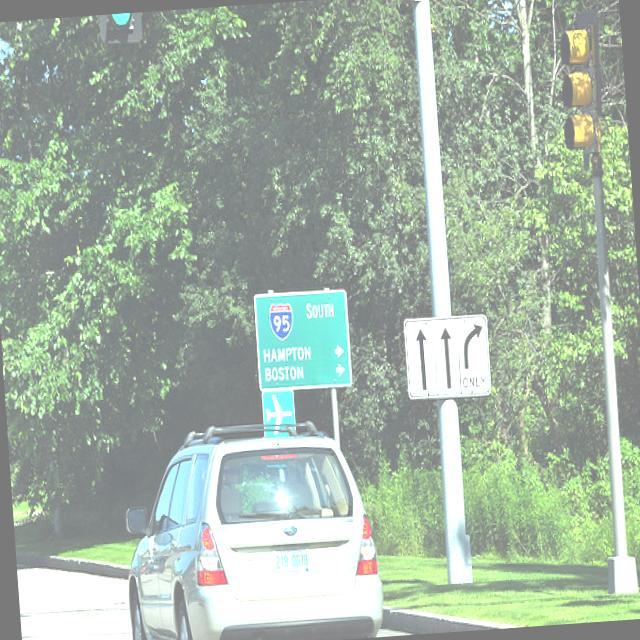Vehicle: (115, 413, 385, 640)
